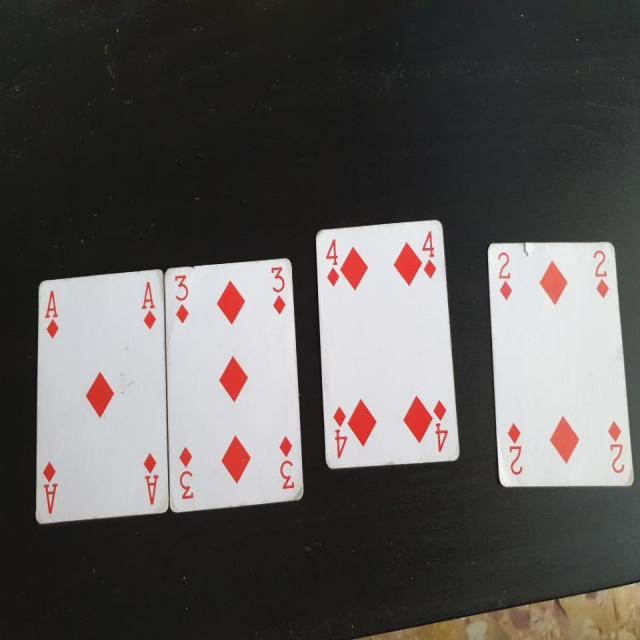2 Diamonds: (483, 227, 638, 492)
3 Diamonds: (162, 257, 308, 515)
4 Diamonds: (314, 218, 463, 476)
A Diamonds: (32, 268, 169, 522)
